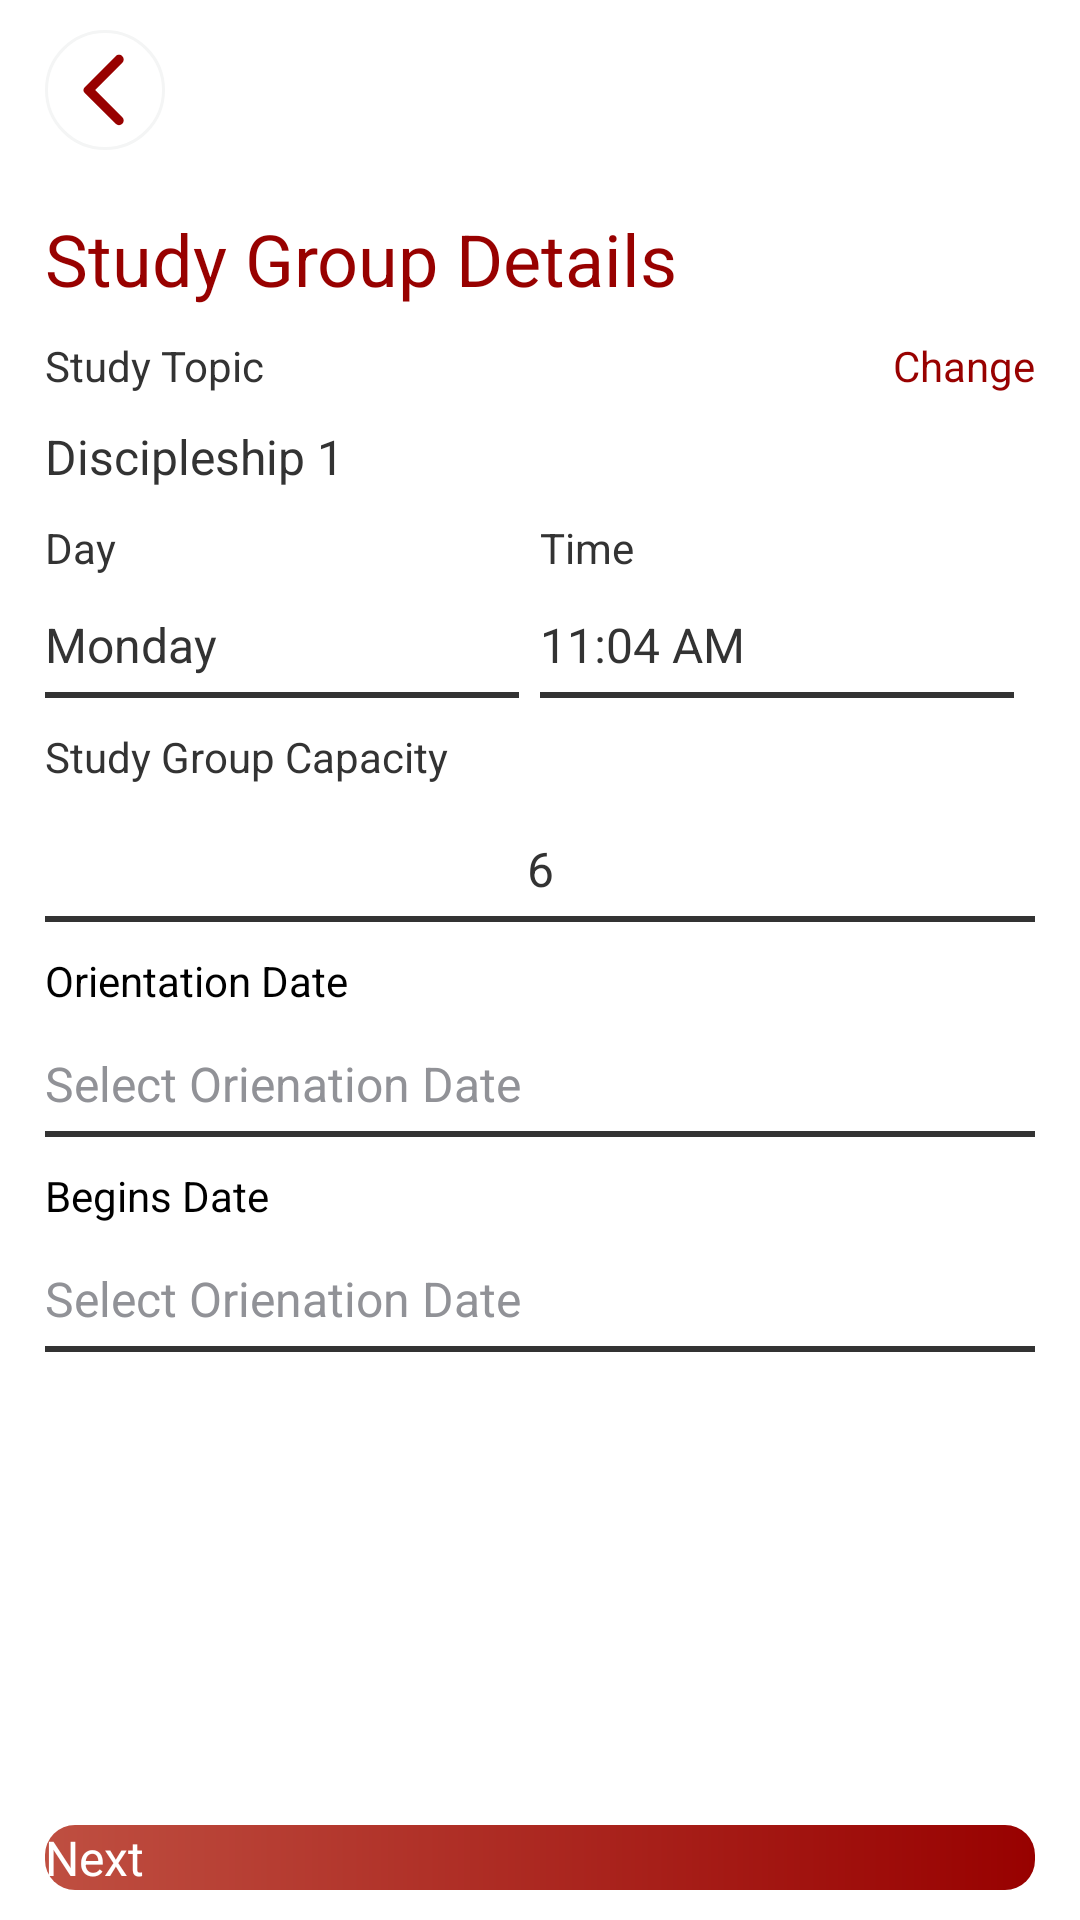

Named icons in this screenshot (1080*1920) and their bounding boxes, (x1, y1, x2, y2):
back: (83, 54, 124, 126)
